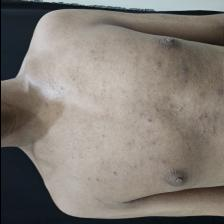DA: (69, 54, 222, 169)
